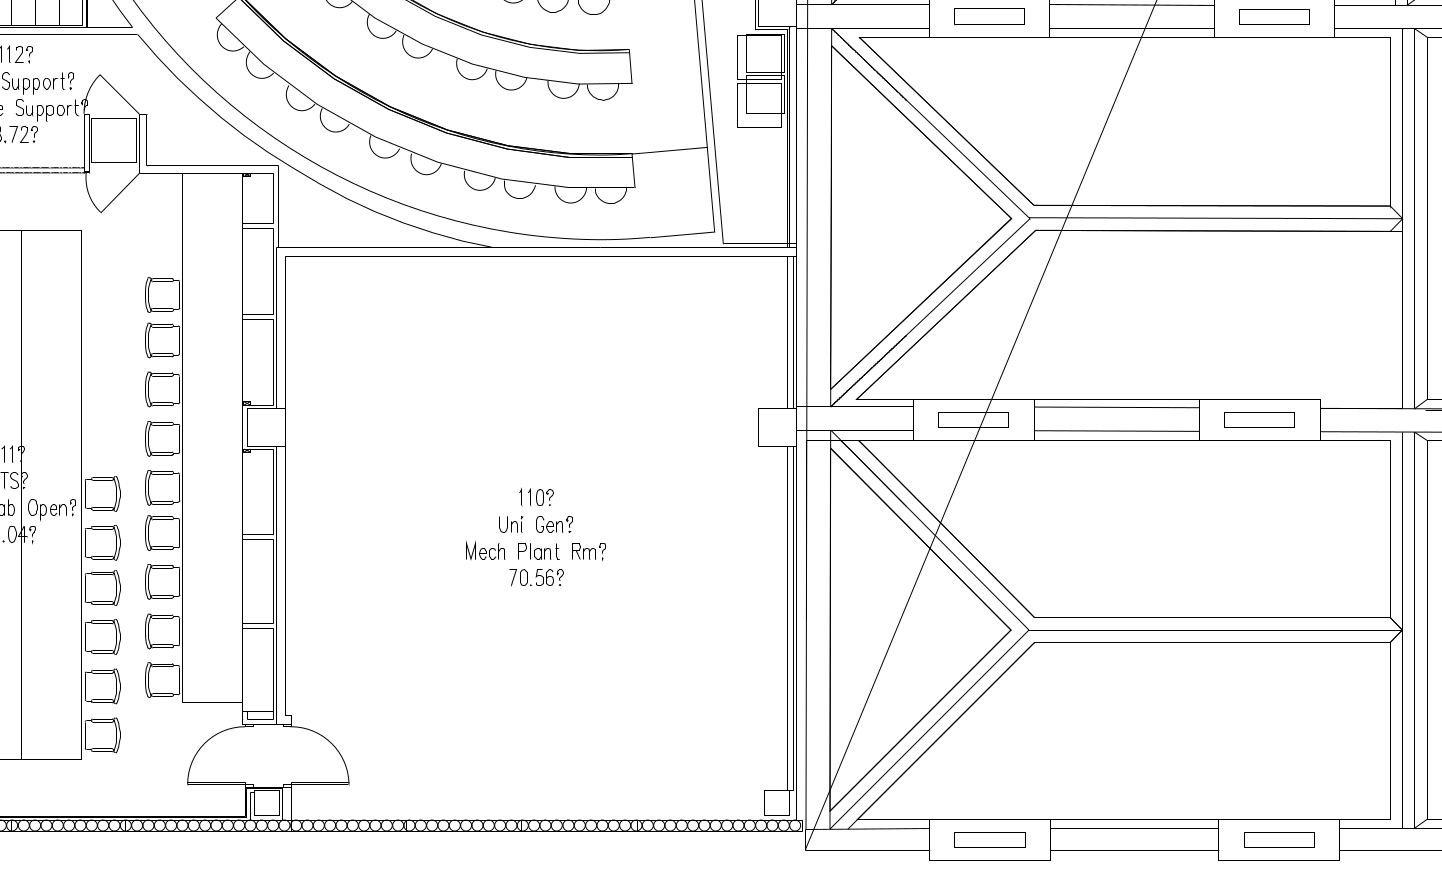door: (180, 718, 244, 794), (289, 722, 353, 798), (79, 172, 136, 215), (82, 68, 139, 111)
